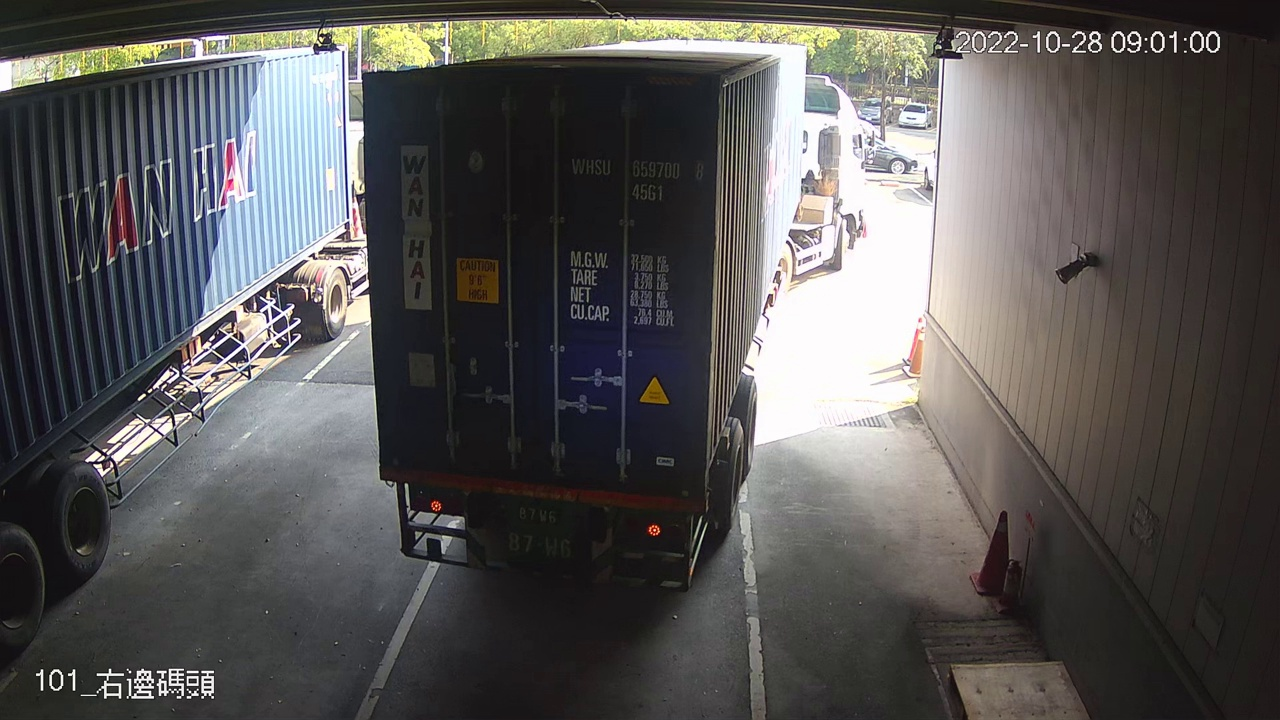container: (564, 147, 711, 205)
